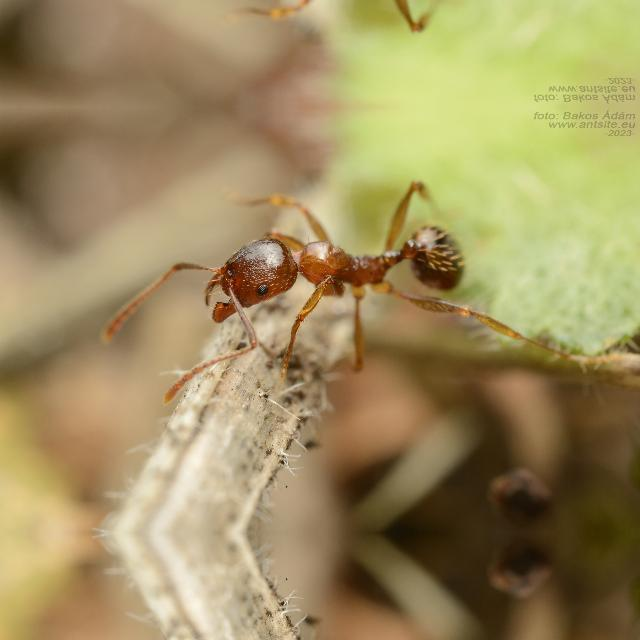Apheanogaster: (169, 192, 501, 354)
